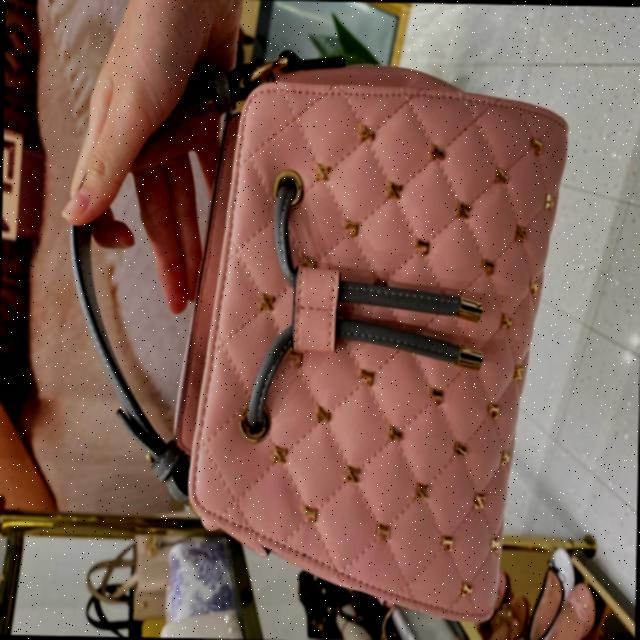handbag: (154, 46, 584, 625)
